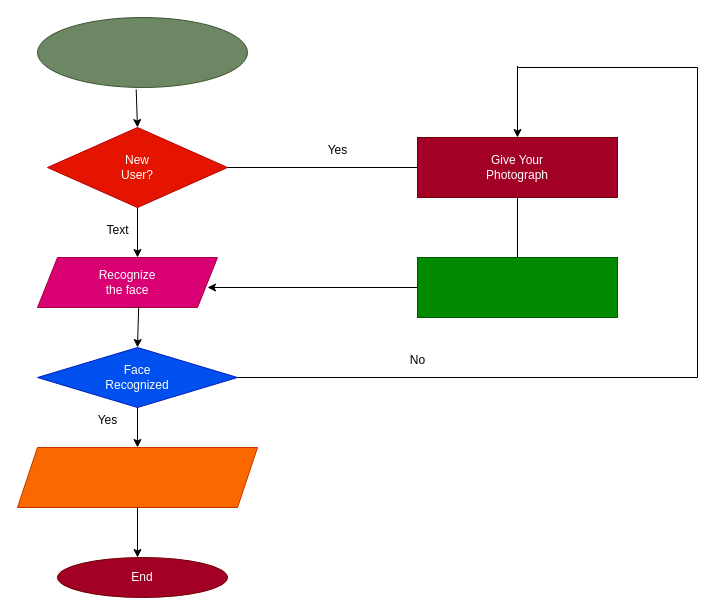
Image size: 716x615. Some labels were removed from this diagram. The box of each missing label's shape, as (x1, y1, x2, y2) in pixels:
Start: (36, 16, 248, 88)
Store the face data in folder on your name: (416, 256, 618, 318)
Stored in CSV file with Registration Number & Date, Time of Entry: (16, 446, 258, 508)
